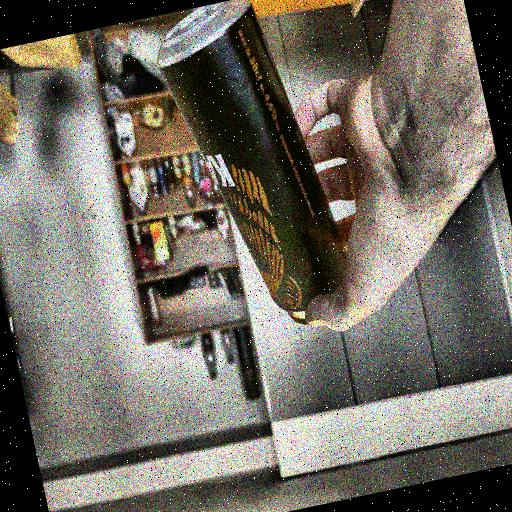karhu: (142, 0, 365, 361)
